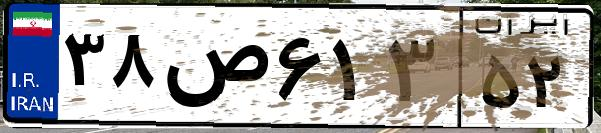1: (330, 28, 385, 110)
2: (525, 38, 570, 115)
3: (385, 28, 445, 110), (57, 26, 110, 100)
5: (475, 38, 525, 113)
6: (270, 28, 330, 110)
8: (110, 28, 158, 98)
ص: (158, 20, 270, 120)
